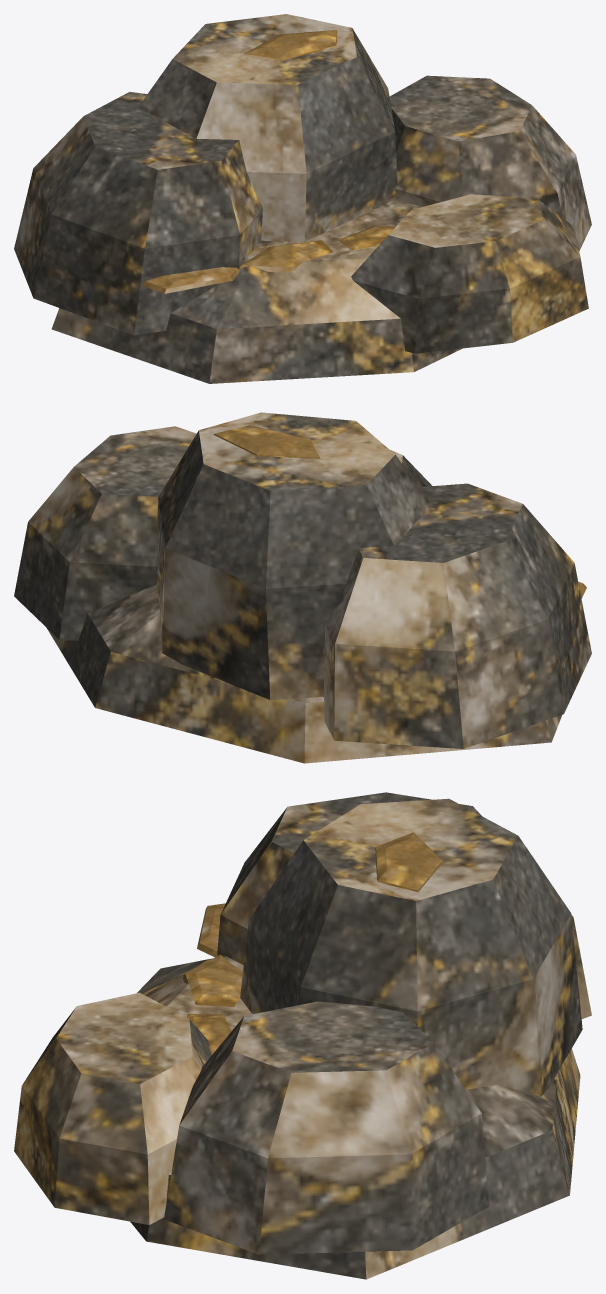
Rendered from nodo-gold-2x2-CCe2ND-O.glb.
3 views of the same model, one above another, from view 1: azimuth 30°, elevation 25°; view 2: azimuth 150°, elevation 25°; view 3: azimuth 270°, elevation 25° (orthographic). The views are drawn at different scales.
Parts seen in each view (by area): view 1: nodo-gold-final-2x2; view 2: nodo-gold-final-2x2; view 3: nodo-gold-final-2x2.
Part boxes in pixels (x1,y1,x2,y2): nodo-gold-final-2x2: (14,14,591,383); nodo-gold-final-2x2: (14,412,591,763); nodo-gold-final-2x2: (14,792,591,1279).
Size of the model in its own units: 41.21 by 17.33 by 32.53.
Materials: 2 (2 with a texture image).
